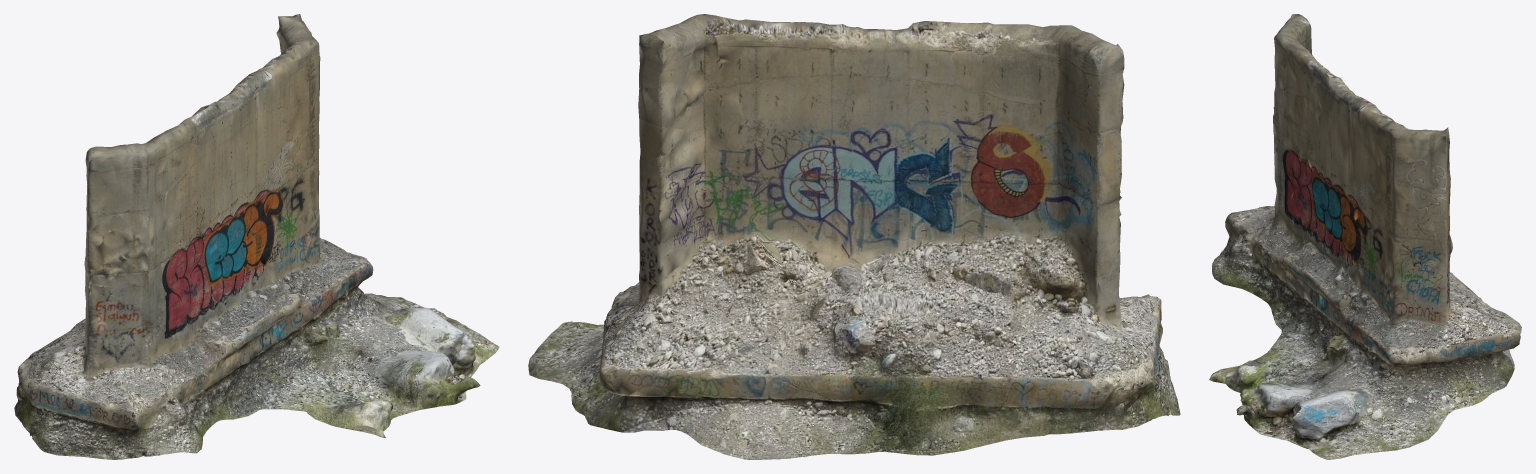
File: ruin-wall.glb
3 renders of one model, left to right at view 1: azimuth 30°, elevation 25°; view 2: azimuth 150°, elevation 25°; view 3: azimuth 270°, elevation 25°, orthographic. The views are drawn at different scales.
Visible parts, largest first — view 1: scan-0; view 2: scan-0; view 3: scan-0.
Boxes of the visible parts, x1,y1,x2,y2 form: scan-0: (14,14,499,459); scan-0: (528,14,1180,459); scan-0: (1209,14,1521,459).
Size of the model in its own units: 29.51 by 18.94 by 19.51.
1 material, 1 textured.
